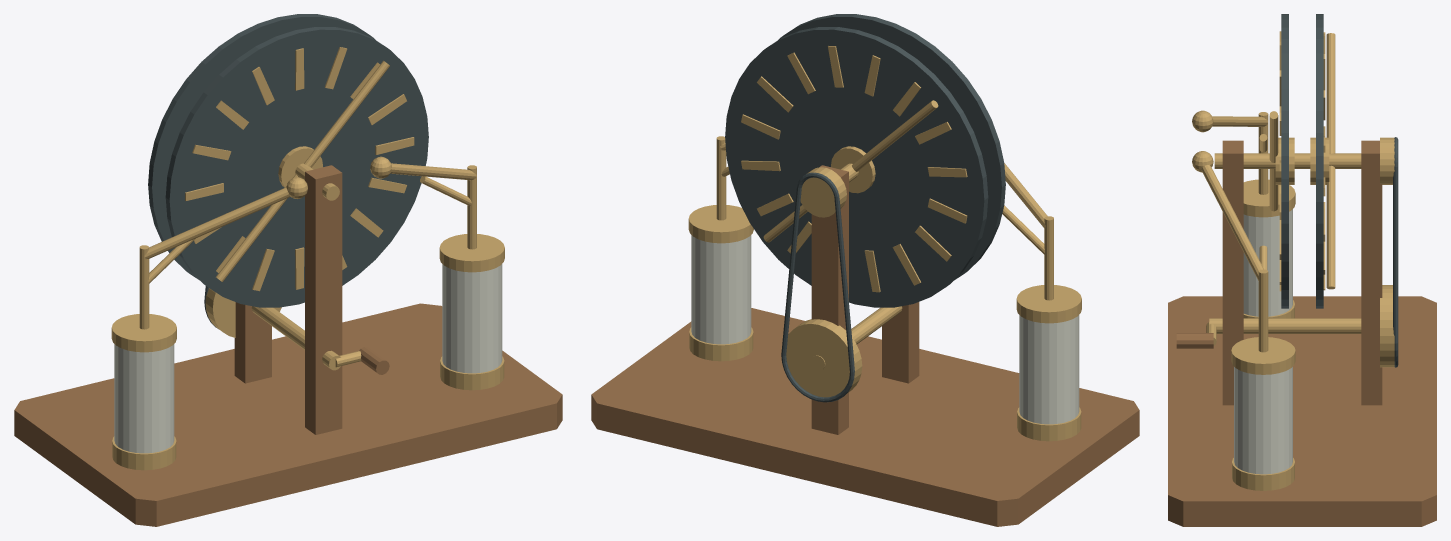
3 views of the same model, side by side, from view 1: azimuth 30°, elevation 25°; view 2: azimuth 150°, elevation 25°; view 3: azimuth 270°, elevation 25° (orthographic).
Parts seen in each view (by area): view 1: WholeChamferedGroundBase, WholeThinSectorDisc0, WholeAxleStandard0, WholeThinSectorDisc1, WholeOpaqueSideCanister0, WholeOpaqueSideCanister1, WholeAxleStandard1, WholeFrontDiagonalBar, WholeCanisterTopCap0, WholeCanisterTopCap1, WholeRaisedTerminalArm0, WholeCanisterLowerCollar0 (+7 smaller); view 2: WholeChamferedGroundBase, WholeThinSectorDisc1, WholeThinSectorDisc0, WholeOpaqueSideCanister0, WholeOpaqueSideCanister1, WholeAxleStandard1, WholeLowerDriveWheel, WholeContinuousFixedDriveBelt, WholeAxleStandard0, WholeCanisterTopCap0, WholeCanisterTopCap1, WholeUpperDrivePulley (+8 smaller); view 3: WholeChamferedGroundBase, WholeOpaqueSideCanister1, WholeAxleStandard1, WholeAxleStandard0, WholeOpaqueSideCanister0, WholeThinSectorDisc0, WholeThinSectorDisc1, WholeRearDiagonalBar, WholeCanisterTopCap1, WholeLowerFixedAxle, WholeUpperFixedAxle, WholeRaisedTerminalArm1 (+14 smaller).
Boxes of the visible parts, x1=… form: WholeChamferedGroundBase: x1=14, y1=303, x2=562, y2=526; WholeThinSectorDisc0: x1=165, y1=27, x2=428, y2=307; WholeAxleStandard0: x1=305, y1=165, x2=342, y2=434; WholeThinSectorDisc1: x1=148, y1=14, x2=375, y2=280; WholeOpaqueSideCanister0: x1=114, y1=344, x2=174, y2=453; WholeOpaqueSideCanister1: x1=442, y1=264, x2=502, y2=373; WholeAxleStandard1: x1=234, y1=302, x2=271, y2=383; WholeFrontDiagonalBar: x1=216, y1=60, x2=389, y2=281; WholeCanisterTopCap0: x1=111, y1=314, x2=176, y2=352; WholeCanisterTopCap1: x1=439, y1=234, x2=504, y2=272; WholeRaisedTerminalArm0: x1=144, y1=187, x2=290, y2=258; WholeCanisterLowerCollar0: x1=112, y1=436, x2=176, y2=470; WholeChamferedGroundBase: x1=591, y1=308, x2=1139, y2=526; WholeThinSectorDisc1: x1=725, y1=27, x2=988, y2=307; WholeThinSectorDisc0: x1=778, y1=14, x2=1005, y2=280; WholeOpaqueSideCanister0: x1=1019, y1=315, x2=1079, y2=424; WholeOpaqueSideCanister1: x1=691, y1=235, x2=751, y2=344; WholeAxleStandard1: x1=811, y1=165, x2=848, y2=434; WholeLowerDriveWheel: x1=786, y1=319, x2=862, y2=397; WholeContinuousFixedDriveBelt: x1=781, y1=172, x2=854, y2=402; WholeAxleStandard0: x1=882, y1=302, x2=919, y2=383; WholeCanisterTopCap0: x1=1016, y1=285, x2=1081, y2=323; WholeCanisterTopCap1: x1=688, y1=205, x2=753, y2=243; WholeUpperDrivePulley: x1=800, y1=167, x2=846, y2=217; WholeChamferedGroundBase: x1=1168, y1=296, x2=1436, y2=526; WholeOpaqueSideCanister1: x1=1234, y1=367, x2=1292, y2=474; WholeAxleStandard1: x1=1361, y1=140, x2=1382, y2=405; WholeAxleStandard0: x1=1222, y1=140, x2=1243, y2=405; WholeOpaqueSideCanister0: x1=1243, y1=209, x2=1292, y2=316; WholeThinSectorDisc0: x1=1281, y1=14, x2=1288, y2=308; WholeThinSectorDisc1: x1=1316, y1=14, x2=1323, y2=308; WholeRearDiagonalBar: x1=1326, y1=33, x2=1335, y2=289; WholeCanisterTopCap1: x1=1231, y1=337, x2=1295, y2=374; WholeLowerFixedAxle: x1=1209, y1=318, x2=1361, y2=333; WholeUpperFixedAxle: x1=1214, y1=153, x2=1361, y2=168; WholeRaisedTerminalArm1: x1=1201, y1=165, x2=1263, y2=281.
Size of the model in its own units: 1.12 by 1.01 by 0.62.
